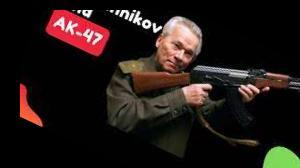larga: (130, 64, 300, 128)
